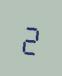two: (19, 19, 40, 56)
